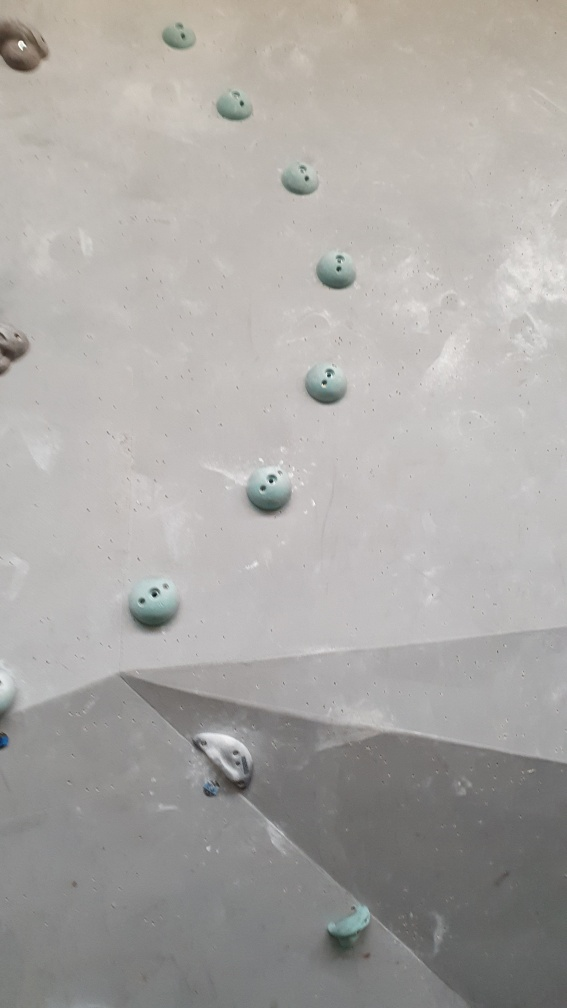Hand Start: (199, 773, 225, 802)
Jug: (322, 895, 376, 954)
Sloper: (128, 573, 181, 634), (244, 460, 297, 516), (314, 244, 358, 289), (209, 84, 256, 123), (281, 155, 323, 196), (307, 361, 348, 402), (160, 18, 198, 53)
